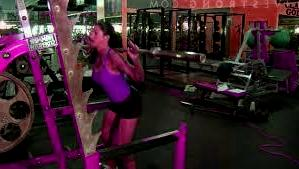Barbell: (194, 51, 208, 67)
